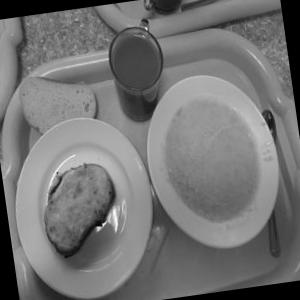bread: (4, 60, 113, 149)
coffee: (95, 6, 175, 130)
pasta: (28, 154, 136, 268)
porridge: (145, 79, 278, 248)
